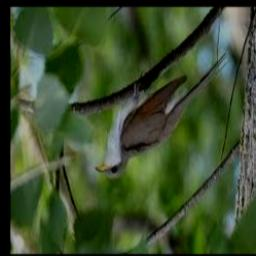Cuckoo: (95, 53, 229, 179)
